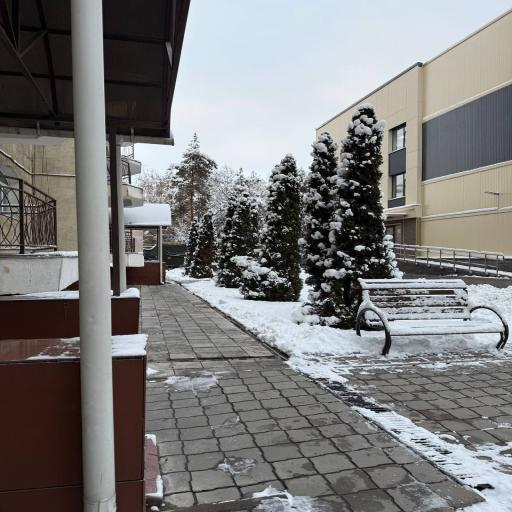trash_bin: (356, 278, 509, 356)
